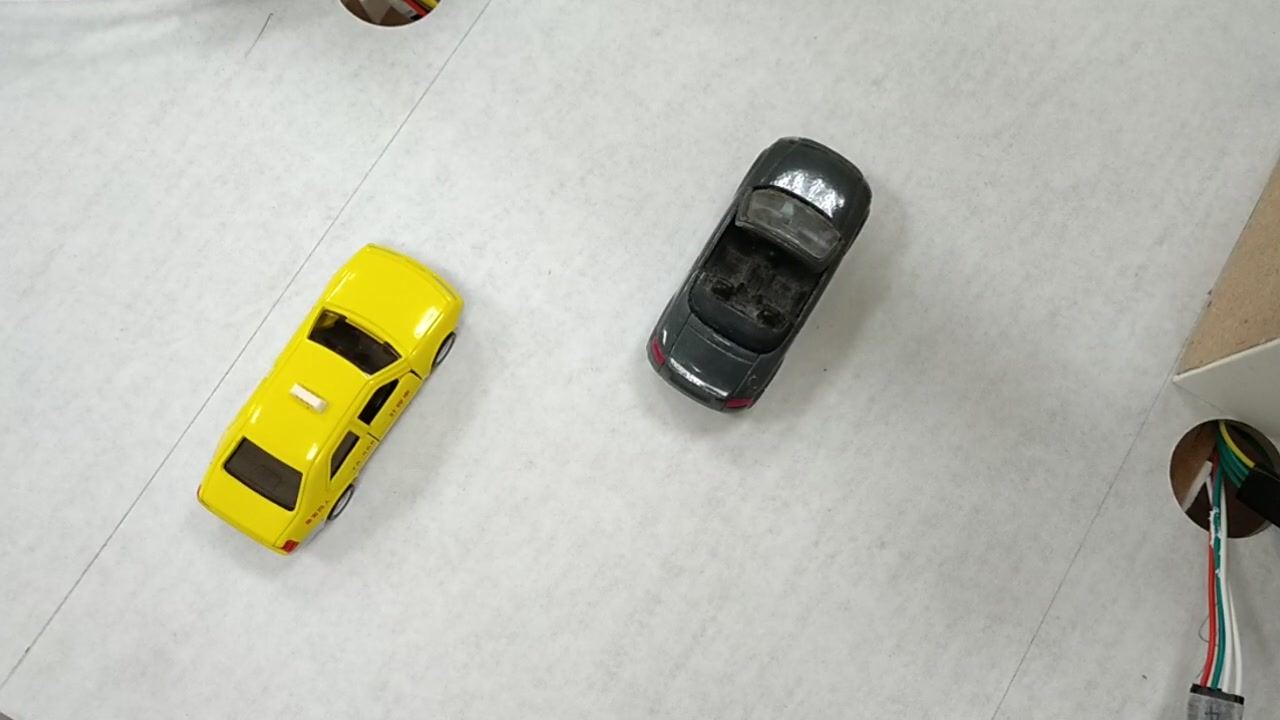car: (191, 267, 458, 542), (649, 141, 868, 391)
